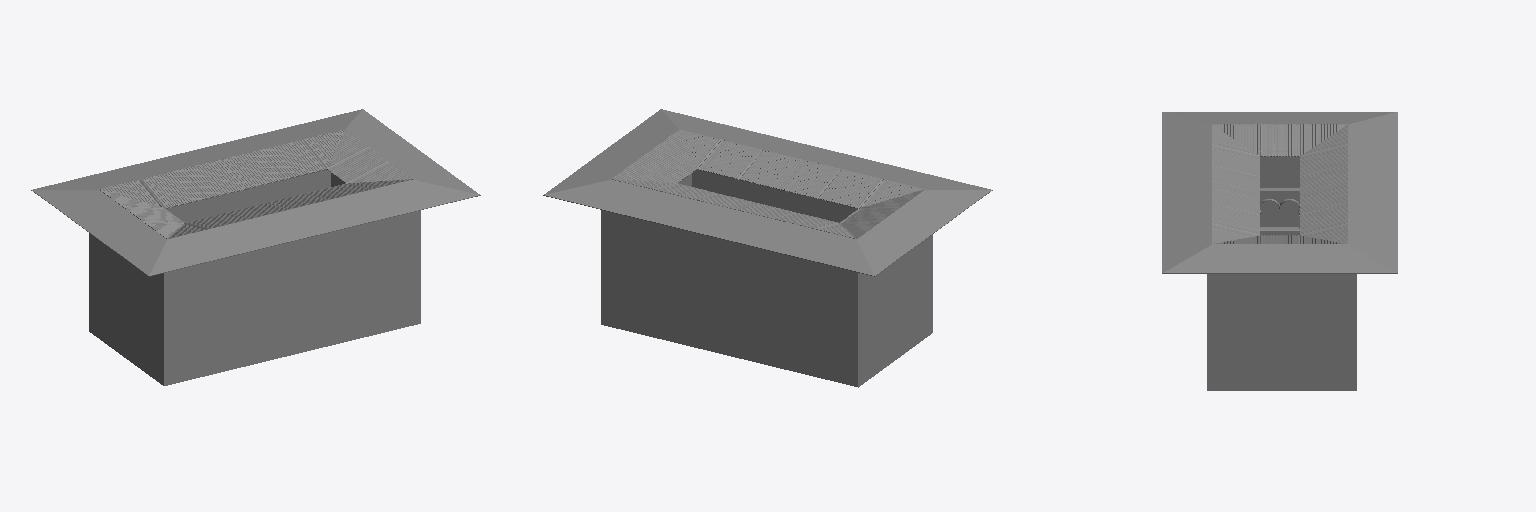
Rendered from sponza.obj.
3 views of the same model, side by side, from view 1: azimuth 30°, elevation 25°; view 2: azimuth 150°, elevation 25°; view 3: azimuth 270°, elevation 25° (orthographic).
Visible parts, largest first — view 1: sponza_382, sponza_380, sponza_381, sponza_258; view 2: sponza_382, sponza_380, sponza_381, sponza_258; view 3: sponza_380, sponza_382, sponza_381, sponza_258.
Boxes of the visible parts, box(x1,y1,x2,y2) form: sponza_382: box(89, 210, 420, 385); sponza_380: box(31, 109, 480, 276); sponza_381: box(100, 130, 411, 238); sponza_258: box(166, 170, 344, 222); sponza_382: box(601, 210, 932, 387); sponza_380: box(543, 109, 992, 276); sponza_381: box(612, 130, 923, 238); sponza_258: box(679, 169, 857, 222); sponza_380: box(1162, 112, 1397, 273); sponza_382: box(1207, 191, 1356, 390); sponza_381: box(1212, 124, 1347, 243); sponza_258: box(1260, 151, 1299, 190).
Bounding box in the file's own units: 372 × 155 × 229.